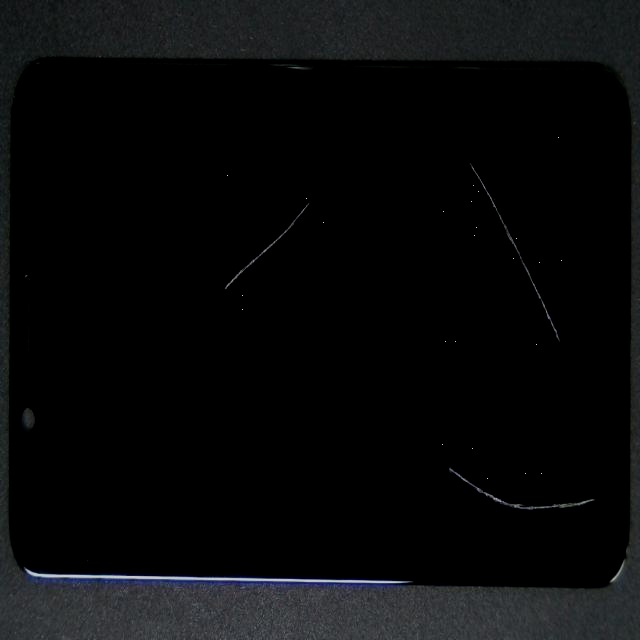scratch: (214, 219, 640, 640), (101, 116, 324, 433), (247, 70, 640, 206)
